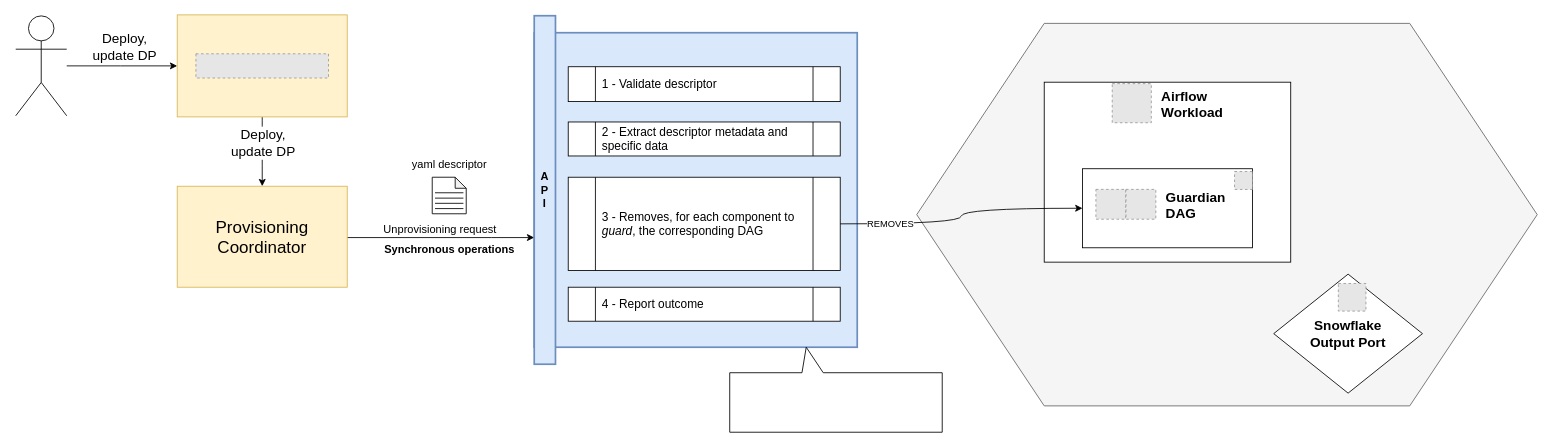
Image size: 1552x447. Some labels were removed from this diagram. Grey dashed boxes stand in for pictures. The box of each missing label's shape, as (x1, y1, x2, y2) in pixels:
Data Product: (916, 23, 1537, 406)
DP team: (15, 15, 67, 116)
GX Guardian Tech Adapter: (533, 31, 858, 348)
Idempotent, i.e. does not fail if something it provisions already exists: (729, 346, 942, 432)
